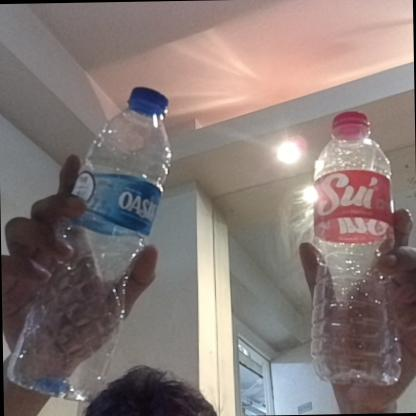plastic_bottles: (6, 88, 175, 396), (304, 107, 398, 382)
